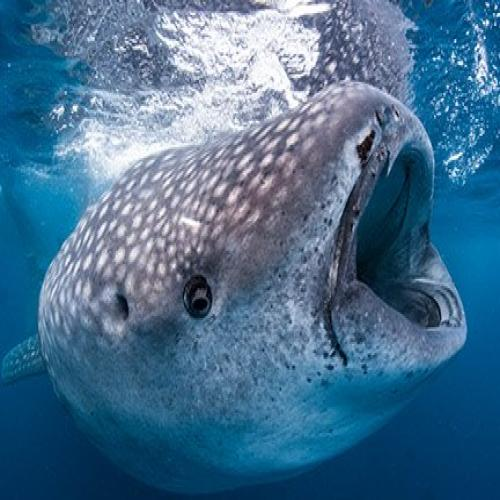shark-endangered: (0, 78, 468, 498)
